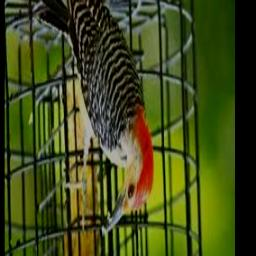Woodpecker: (36, 0, 154, 237)
